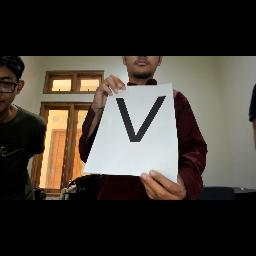v: (110, 92, 170, 144)
